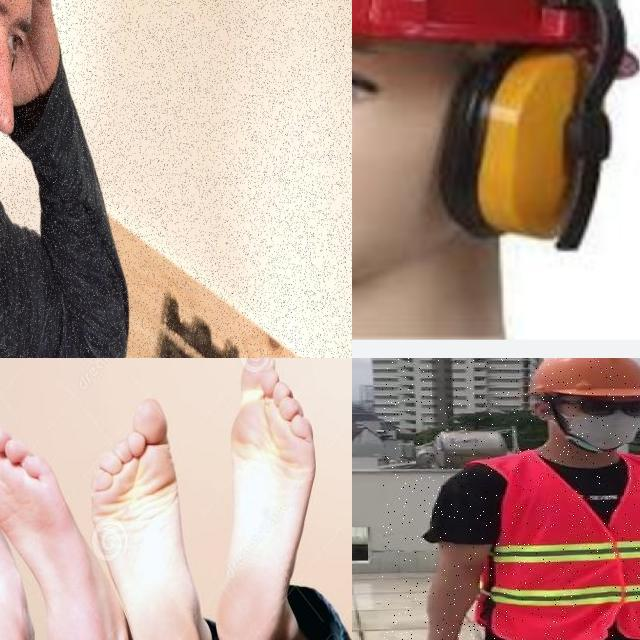Barefoots: (210, 358, 329, 640), (86, 390, 205, 640), (0, 412, 113, 640)
Ear-protection: (352, 0, 640, 305)
No_Glasses: (352, 43, 416, 113), (0, 0, 31, 77)
head_helmet: (524, 358, 640, 403)
person: (382, 358, 640, 640)
vest: (484, 455, 640, 640)
